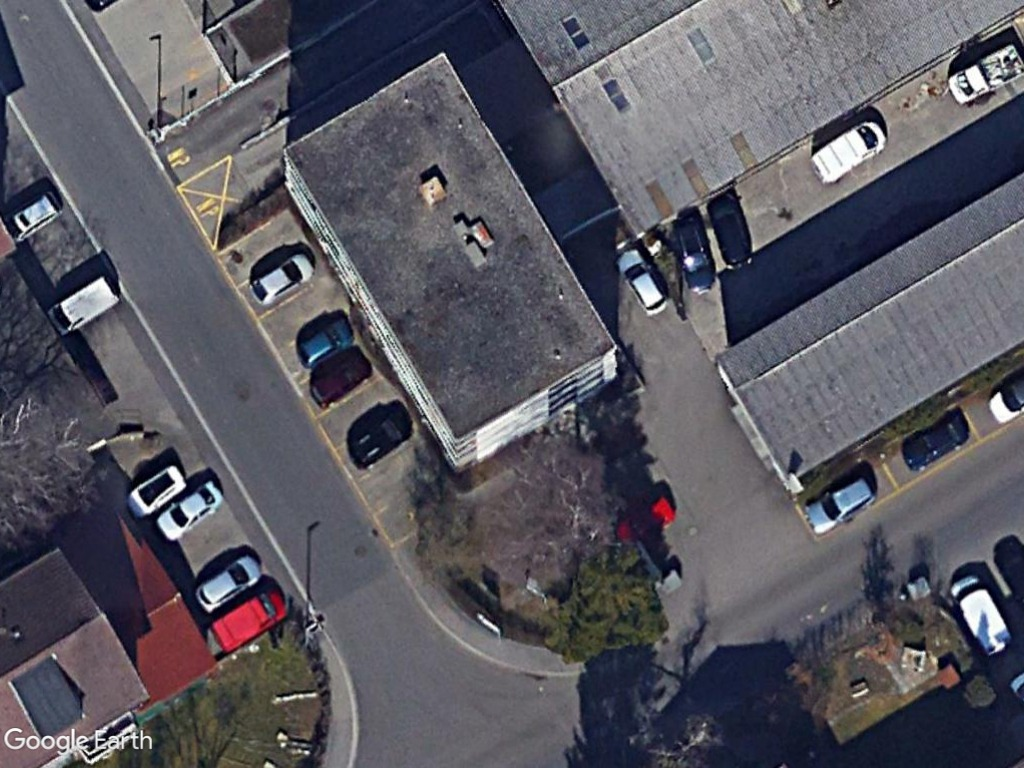car: (153, 477, 229, 542), (801, 472, 878, 533), (247, 247, 318, 310), (195, 551, 266, 614), (613, 248, 670, 319), (295, 316, 354, 370)
van: (808, 118, 893, 187), (210, 586, 289, 653)
